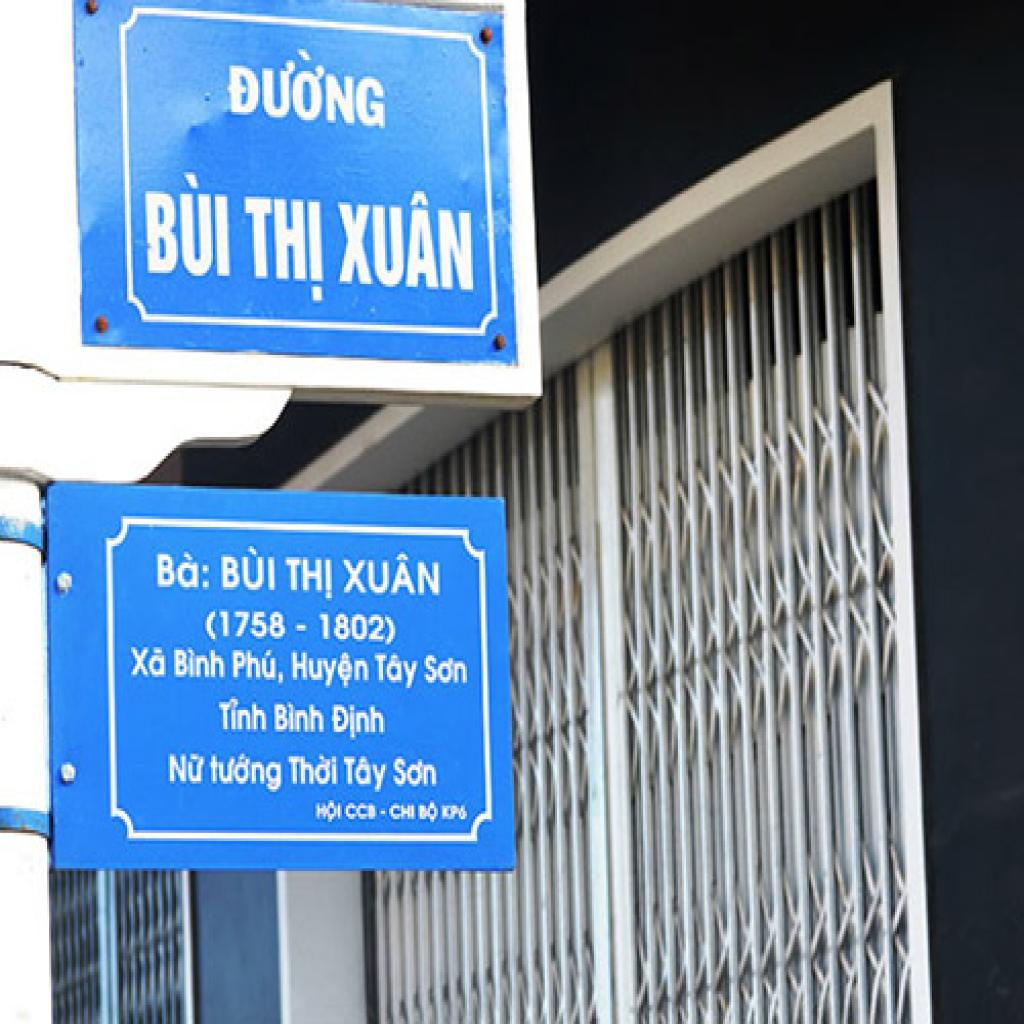text: (336, 191, 479, 303), (223, 44, 389, 134), (142, 164, 234, 284), (238, 191, 328, 309), (338, 554, 442, 598), (289, 650, 373, 693), (209, 748, 285, 795), (207, 606, 289, 647), (316, 609, 402, 647), (219, 541, 279, 595), (283, 554, 338, 606), (330, 699, 389, 746), (172, 642, 231, 685), (156, 549, 213, 592), (215, 696, 270, 738), (231, 647, 287, 688), (340, 751, 391, 795), (272, 699, 328, 737), (373, 650, 422, 693), (285, 751, 340, 789), (164, 748, 209, 789), (129, 639, 170, 683), (392, 756, 442, 792), (424, 653, 469, 688), (313, 797, 344, 830), (344, 800, 381, 825), (387, 800, 420, 825)
